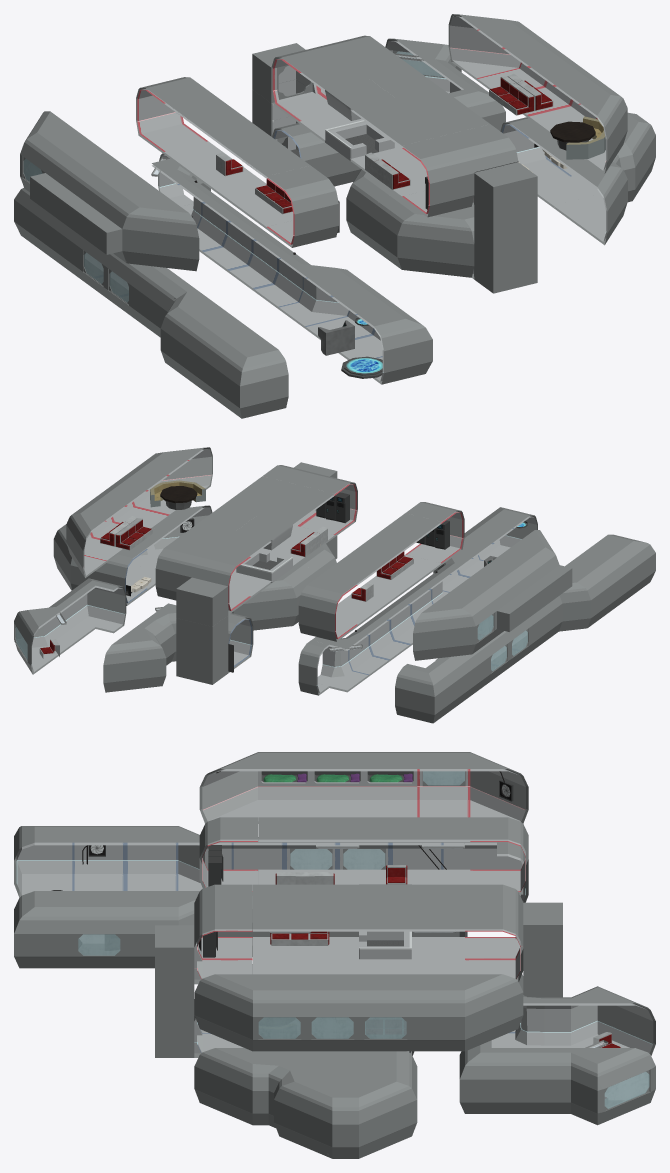
The model's file is space_station.glb.
The picture shows the model from 3 angles, top to bottom: view 1: azimuth 30°, elevation 25°; view 2: azimuth 150°, elevation 25°; view 3: azimuth 270°, elevation 25°; orthographic projection. The views are drawn at different scales.
Visible parts, largest first — view 1: Building; view 2: Building; view 3: Building.
Part boxes in pixels (x1,y1,x2,y2): Building: (14,14,655,418); Building: (14,447,655,723); Building: (14,752,655,1158).
Size of the model in its own units: 13.2 by 2.68 by 12.1.
Materials: 17 (17 with a texture image).
